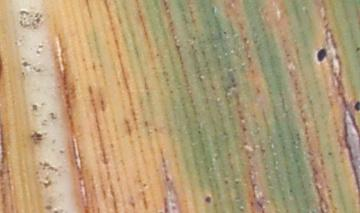tarspot: (317, 48, 326, 65), (353, 99, 360, 112), (204, 194, 212, 204)
